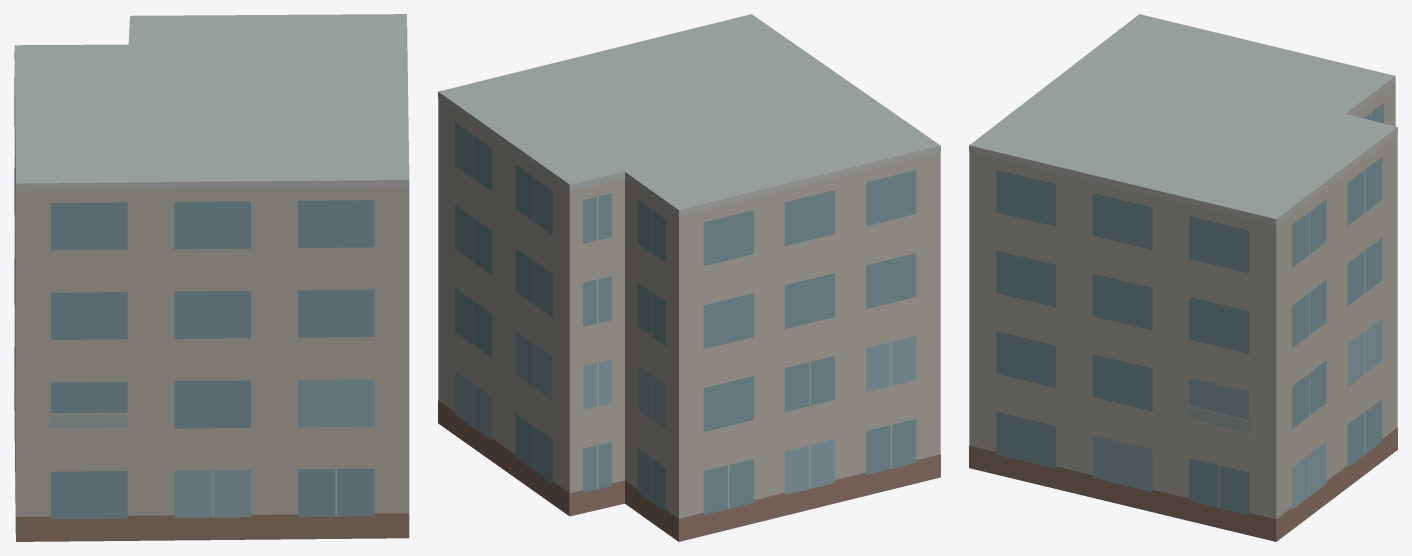
File: survey-upis-32706594.glb
The picture shows the model from 3 angles, left to right: view 1: azimuth 30°, elevation 25°; view 2: azimuth 150°, elevation 25°; view 3: azimuth 270°, elevation 25°; orthographic projection. The views are drawn at different scales.
Visible parts, largest first — view 1: survey-upis-32706594.tmp; view 2: survey-upis-32706594.tmp; view 3: survey-upis-32706594.tmp.
Part boxes in pixels (left/top/right/bottom): survey-upis-32706594.tmp: left=14, top=14, right=409, bottom=541; survey-upis-32706594.tmp: left=438, top=14, right=940, bottom=541; survey-upis-32706594.tmp: left=969, top=14, right=1397, bottom=541.
Bounding box in the file's own units: 16.64 × 12.2 × 14.69.
